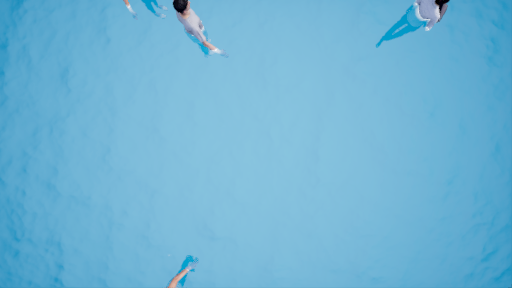person: (367, 1, 464, 53), (170, 1, 230, 63), (153, 251, 196, 288), (123, 1, 165, 29)
